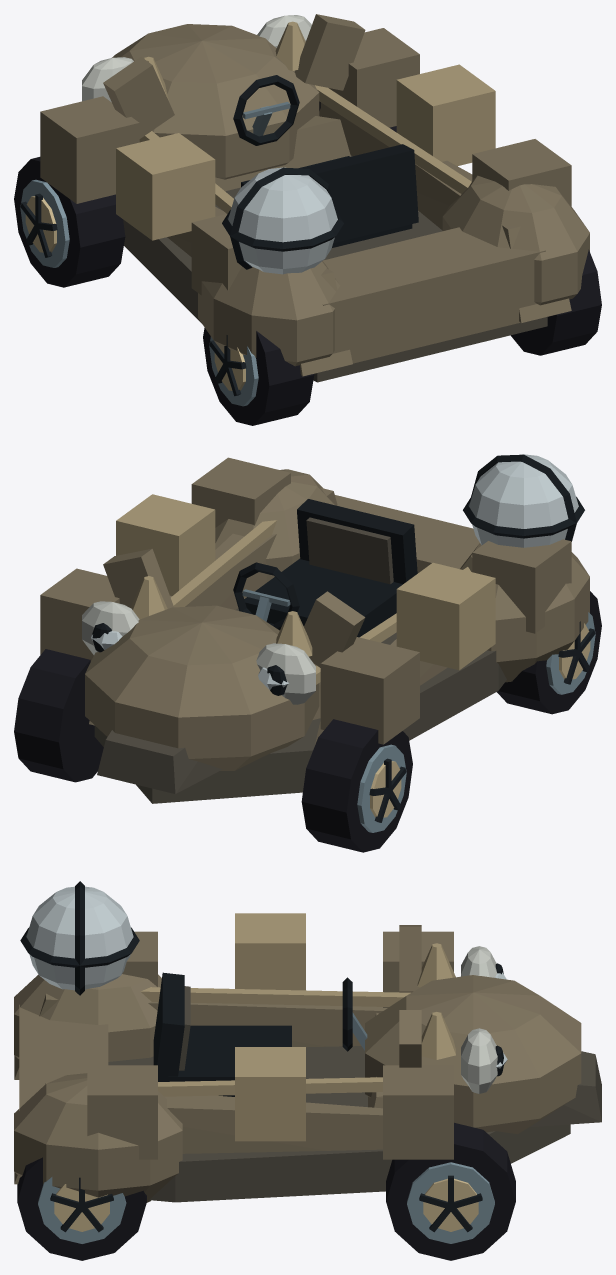
File: kart.glb
3 renders of one model, top to bottom at view 1: azimuth 30°, elevation 25°; view 2: azimuth 150°, elevation 25°; view 3: azimuth 270°, elevation 25°, orthographic. The views are drawn at different scales.
Visible parts, largest first — view 1: identity-beast-beast-sculpted-prow-and-haunches, identity-beast-motif-blocks, identity-beast-driver-cockpit, identity-beast-motif-ball, wheel-front-left, wheel-rear-left, wheel-rear-right, identity-beast-motif-eyes; view 2: identity-beast-beast-sculpted-prow-and-haunches, identity-beast-motif-blocks, identity-beast-driver-cockpit, wheel-front-left, wheel-front-right, identity-beast-motif-ball, wheel-rear-left, identity-beast-motif-eyes; view 3: identity-beast-beast-sculpted-prow-and-haunches, identity-beast-motif-blocks, wheel-front-right, identity-beast-motif-ball, identity-beast-driver-cockpit, wheel-rear-right, identity-beast-motif-eyes.
Boxes of the visible parts, left/top/right/bottom form: identity-beast-beast-sculpted-prow-and-haunches: left=103, top=14, right=589, bottom=382; identity-beast-motif-blocks: left=40, top=28, right=571, bottom=295; identity-beast-driver-cockpit: left=233, top=75, right=418, bottom=247; identity-beast-motif-ball: left=222, top=167, right=343, bottom=274; wheel-front-left: left=14, top=157, right=125, bottom=287; wheel-rear-left: left=203, top=328, right=314, bottom=425; wheel-rear-right: left=510, top=249, right=601, bottom=355; identity-beast-motif-eyes: left=82, top=15, right=311, bottom=102; identity-beast-beast-sculpted-prow-and-haunches: left=85, top=469, right=589, bottom=803; identity-beast-motif-blocks: left=40, top=457, right=571, bottom=744; identity-beast-driver-cockpit: left=233, top=499, right=417, bottom=637; wheel-front-left: left=301, top=719, right=412, bottom=852; wheel-front-right: left=14, top=649, right=103, bottom=782; identity-beast-motif-ball: left=463, top=454, right=584, bottom=547; wheel-rear-left: left=497, top=591, right=601, bottom=714; identity-beast-motif-eyes: left=82, top=601, right=315, bottom=704; identity-beast-beast-sculpted-prow-and-haunches: left=14, top=925, right=601, bottom=1202; identity-beast-motif-blocks: left=87, top=913, right=453, bottom=1159; wheel-front-right: left=386, top=1122, right=515, bottom=1260; identity-beast-motif-ball: left=20, top=881, right=139, bottom=995; identity-beast-driver-cockpit: left=153, top=972, right=367, bottom=1096; wheel-rear-right: left=17, top=1157, right=146, bottom=1260; identity-beast-motif-eyes: left=461, top=946, right=503, bottom=1093.
Size of the model in its own units: 2.01 by 1.29 by 2.9.
